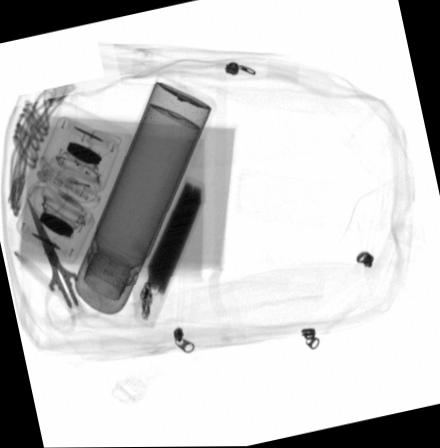Powerbank: (129, 173, 204, 328)
Scissors: (22, 187, 104, 335)
